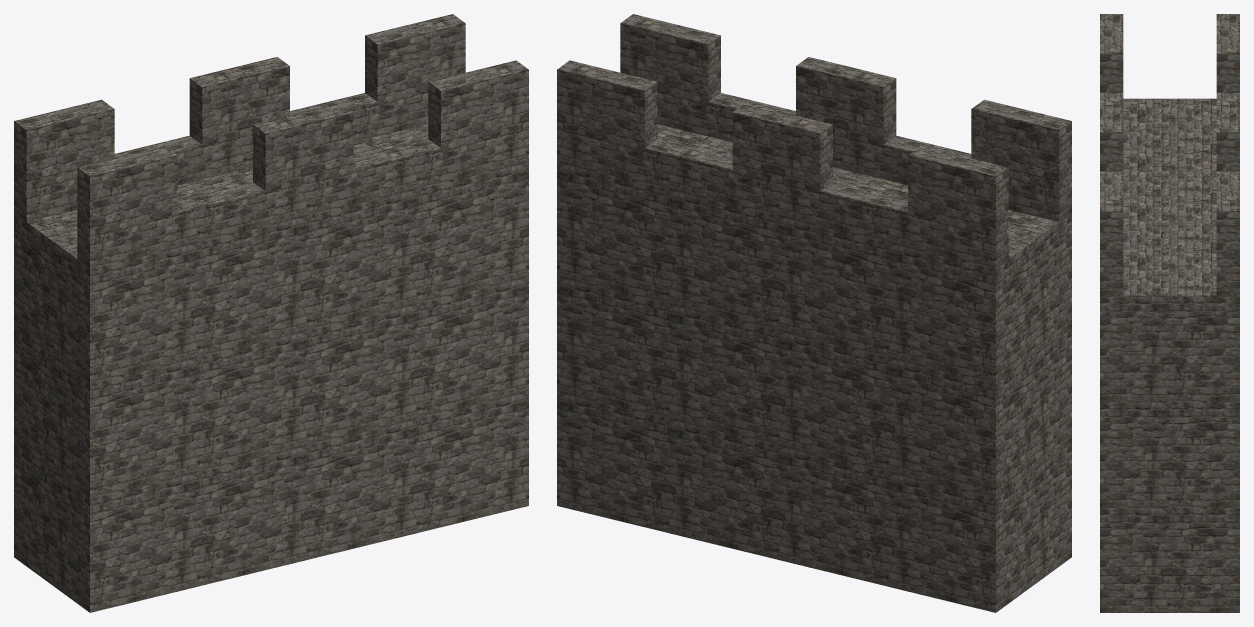
The model's file is Castle_Wall_4m.glb.
3 views of the same model, side by side, from view 1: azimuth 30°, elevation 25°; view 2: azimuth 150°, elevation 25°; view 3: azimuth 270°, elevation 25° (orthographic). The views are drawn at different scales.
Visible parts, largest first — view 1: walkable_wall, parapet, parapet.001, merlon.001, merlon.002, merlon, merlon.003, merlon.005, merlon.004; view 2: walkable_wall, parapet.001, parapet, merlon.004, merlon.005, merlon.003, merlon, merlon.002, merlon.001; view 3: walkable_wall, merlon.002, merlon.005, merlon, merlon.001, merlon.003, merlon.004, parapet, parapet.001.
Boxes of the visible parts, <box> form: walkable_wall: <box>14,124,528,612</box>; parapet: <box>77,127,528,268</box>; parapet.001: <box>14,90,428,221</box>; merlon.001: <box>253,103,353,191</box>; merlon.002: <box>428,60,528,148</box>; merlon: <box>77,146,177,233</box>; merlon.003: <box>14,99,114,187</box>; merlon.005: <box>365,14,465,101</box>; merlon.004: <box>189,57,289,144</box>; walkable_wall: <box>557,124,1071,612</box>; parapet.001: <box>557,127,1008,268</box>; parapet: <box>657,90,1071,221</box>; merlon.004: <box>732,103,832,191</box>; merlon.005: <box>557,60,657,148</box>; merlon.003: <box>908,146,1008,233</box>; merlon: <box>971,99,1071,187</box>; merlon.002: <box>620,14,720,101</box>; merlon.001: <box>796,57,896,144</box>; walkable_wall: <box>1100,98,1239,612</box>; merlon.002: <box>1100,171,1123,263</box>; merlon.005: <box>1216,171,1239,263</box>; merlon: <box>1100,14,1123,92</box>; merlon.001: <box>1100,93,1123,171</box>; merlon.003: <box>1216,14,1239,92</box>; merlon.004: <box>1216,93,1239,171</box>; parapet: <box>1100,264,1123,295</box>; parapet.001: <box>1216,264,1239,295</box>.
Bounding box in the file's own units: 4 × 3.8 × 1.2.
1 material, 1 textured.
